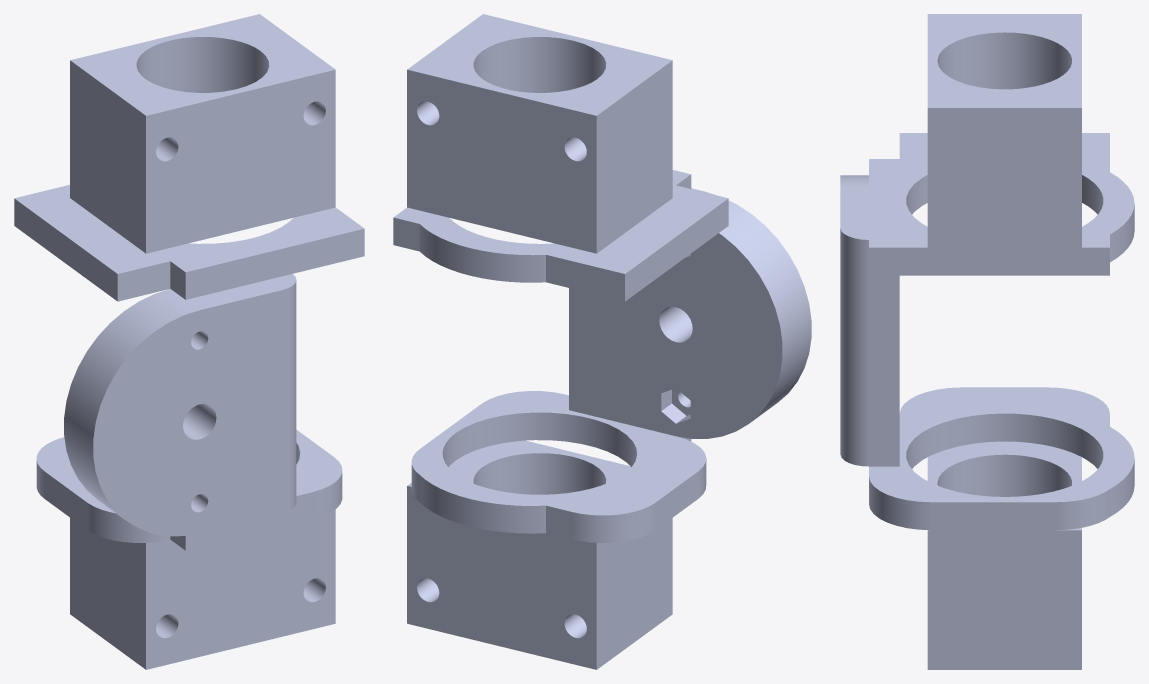
Rendered from steering_sensor_mount_new.gltf.
The picture shows the model from 3 angles, left to right: view 1: azimuth 30°, elevation 25°; view 2: azimuth 150°, elevation 25°; view 3: azimuth 270°, elevation 25°; orthographic projection.
Visible parts, largest first — view 1: steering_sensor_mount_new; view 2: steering_sensor_mount_new; view 3: steering_sensor_mount_new.
Part boxes in pixels (<box>): steering_sensor_mount_new: <box>14,14,364,669</box>; steering_sensor_mount_new: <box>393,14,811,669</box>; steering_sensor_mount_new: <box>840,14,1134,669</box>.
Bounding box in the file's own units: 0.0542 × 0.1005 × 0.0477.
